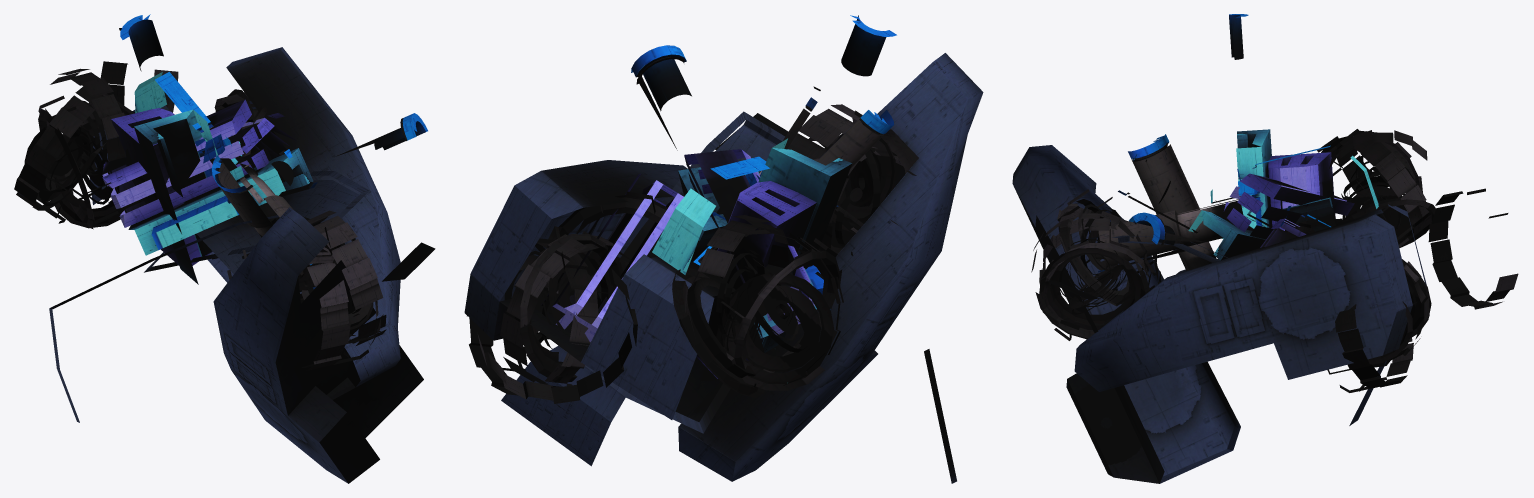
The model's file is PlayerA_Die12.obj.
The picture shows the model from 3 angles, left to right: view 1: azimuth 30°, elevation 25°; view 2: azimuth 150°, elevation 25°; view 3: azimuth 270°, elevation 25°; orthographic projection. The views are drawn at different scales.
Visible parts, largest first — view 1: Object001; view 2: Object001; view 3: Object001.
Part boxes in pixels (x1,y1,x2,y2): Object001: (14, 14, 435, 483); Object001: (464, 15, 983, 483); Object001: (1012, 14, 1518, 483).
Size of the model in its own units: 115 by 149 by 168.
1 material, 1 textured.
